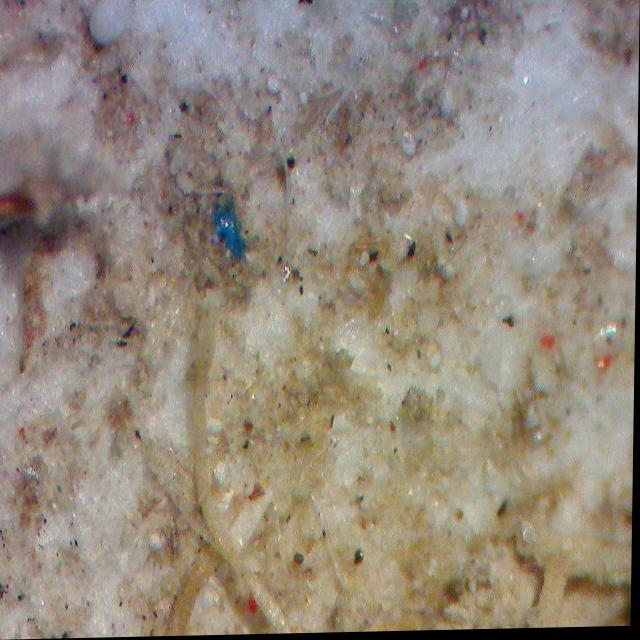microplastic: (210, 203, 251, 267)
